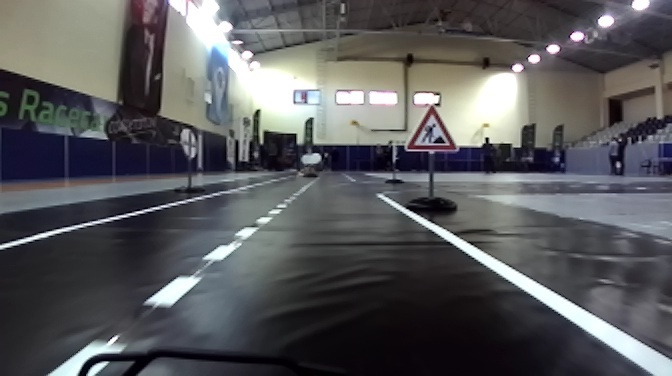yol_yapimi: (403, 99, 458, 158)
